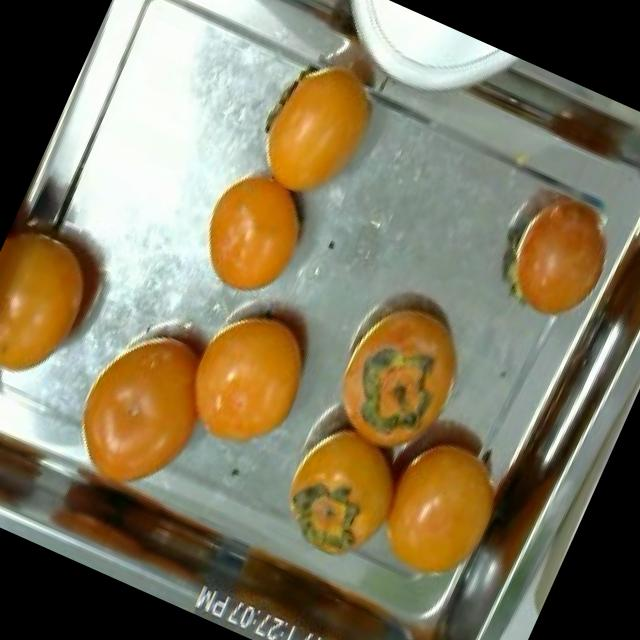Fruit: (39, 291, 248, 520), (338, 387, 534, 614), (232, 14, 416, 230), (154, 278, 342, 482), (310, 266, 492, 474), (248, 390, 432, 590), (0, 194, 137, 414), (172, 144, 336, 320), (476, 168, 633, 344)
